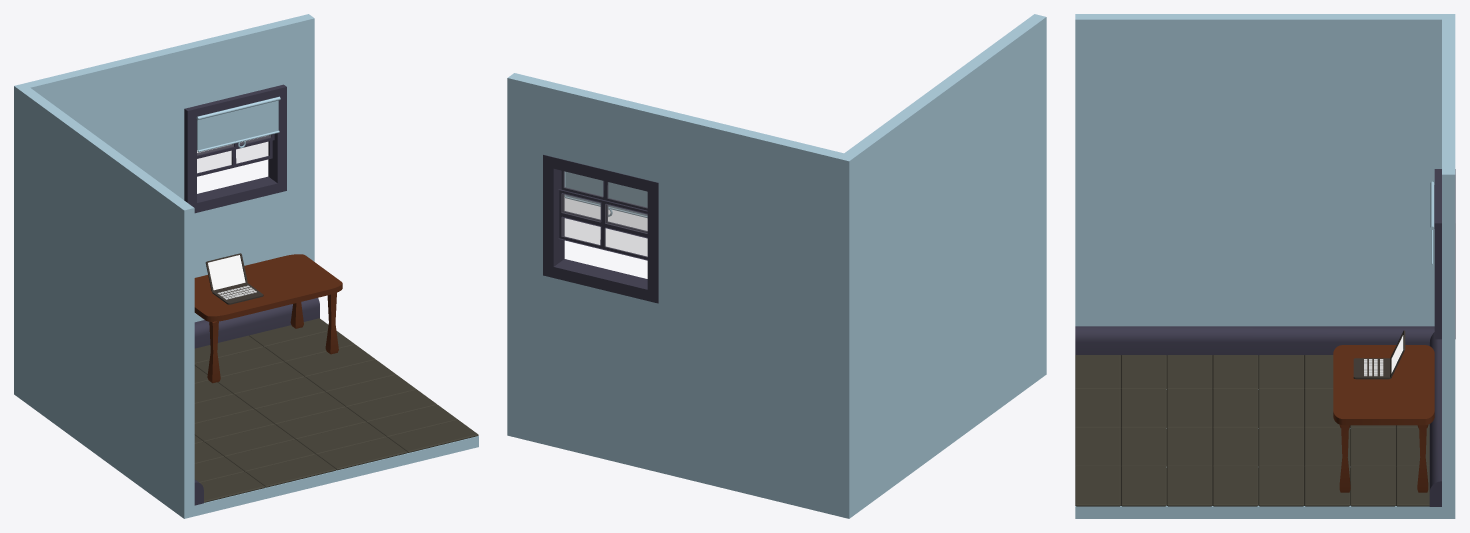
File: darkroomwithdesk.glb
3 renders of one model, left to right at view 1: azimuth 30°, elevation 25°; view 2: azimuth 150°, elevation 25°; view 3: azimuth 270°, elevation 25°, orthographic. The views are drawn at different scales.
Visible parts, largest first — view 1: Cube, Floor, Desk, Window, WindowShade, Trim, WindowPane.001, LaptopTop, LaptopBottom; view 2: Cube, Window, WindowPane.001, WindowPane, WindowShade; view 3: Cube, Floor, Trim, Desk, Window, LaptopBottom.
Boxes of the visible parts, left/top/right/bottom form: Cube: left=14, top=14, right=478, bottom=518; Floor: left=194, top=318, right=478, bottom=502; Desk: left=194, top=254, right=342, bottom=383; Window: left=184, top=84, right=286, bottom=213; WindowShade: left=196, top=96, right=280, bottom=152; Trim: left=194, top=298, right=319, bottom=505; WindowPane.001: left=197, top=135, right=272, bottom=176; LaptopTop: left=205, top=253, right=247, bottom=291; LaptopBottom: left=212, top=283, right=263, bottom=304; Cube: left=507, top=14, right=1046, bottom=518; Window: left=543, top=154, right=658, bottom=303; WindowPane.001: left=558, top=189, right=647, bottom=260; WindowPane: left=561, top=170, right=647, bottom=232; WindowShade: left=565, top=172, right=647, bottom=217; Cube: left=1075, top=14, right=1455, bottom=518; Floor: left=1075, top=355, right=1429, bottom=506; Trim: left=1075, top=326, right=1441, bottom=506; Desk: left=1333, top=345, right=1434, bottom=492; Window: left=1433, top=169, right=1455, bottom=339; LaptopBottom: left=1353, top=358, right=1391, bottom=379.
Bounding box in the file's own units: 10 × 10 × 10.02.
